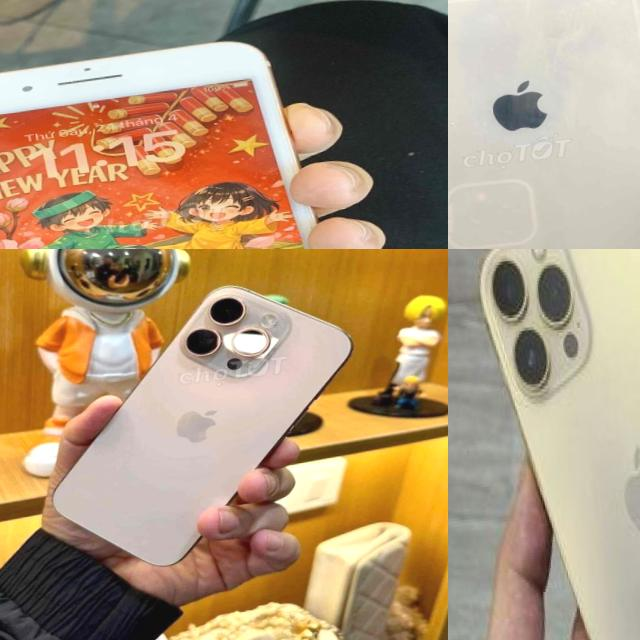gen_12_13: (464, 249, 640, 640)
gen_16: (21, 266, 380, 576)
gen_7_8: (0, 25, 397, 249)
gen_x_xs: (448, 0, 640, 249)
